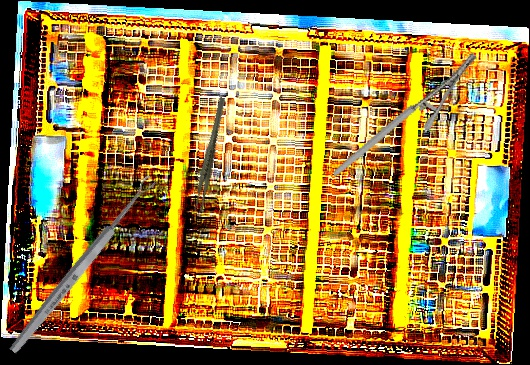Needle Holder: (310, 51, 499, 177)
Surgical Spoon: (6, 174, 159, 356)
Tissue Forceps: (174, 96, 247, 214)
